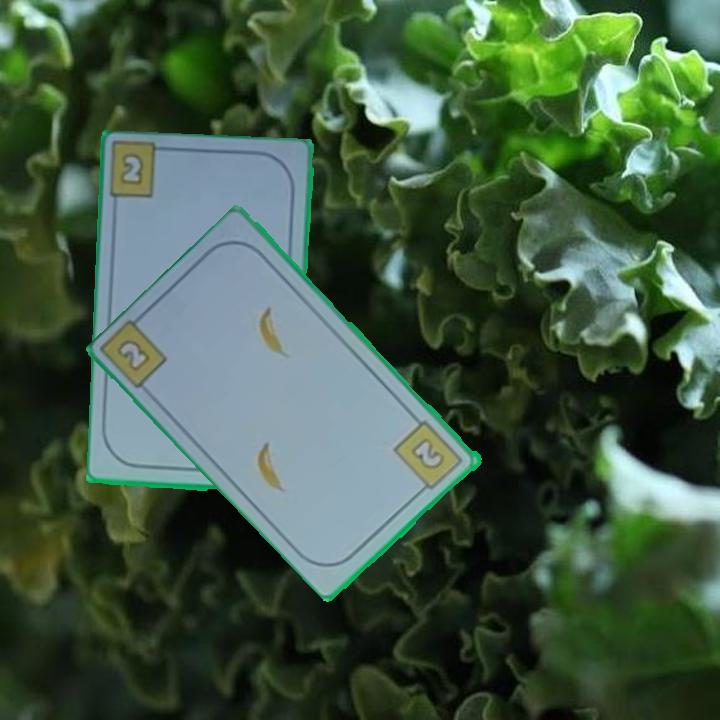2b: (391, 417, 467, 497), (113, 335, 154, 375), (120, 153, 145, 185)
